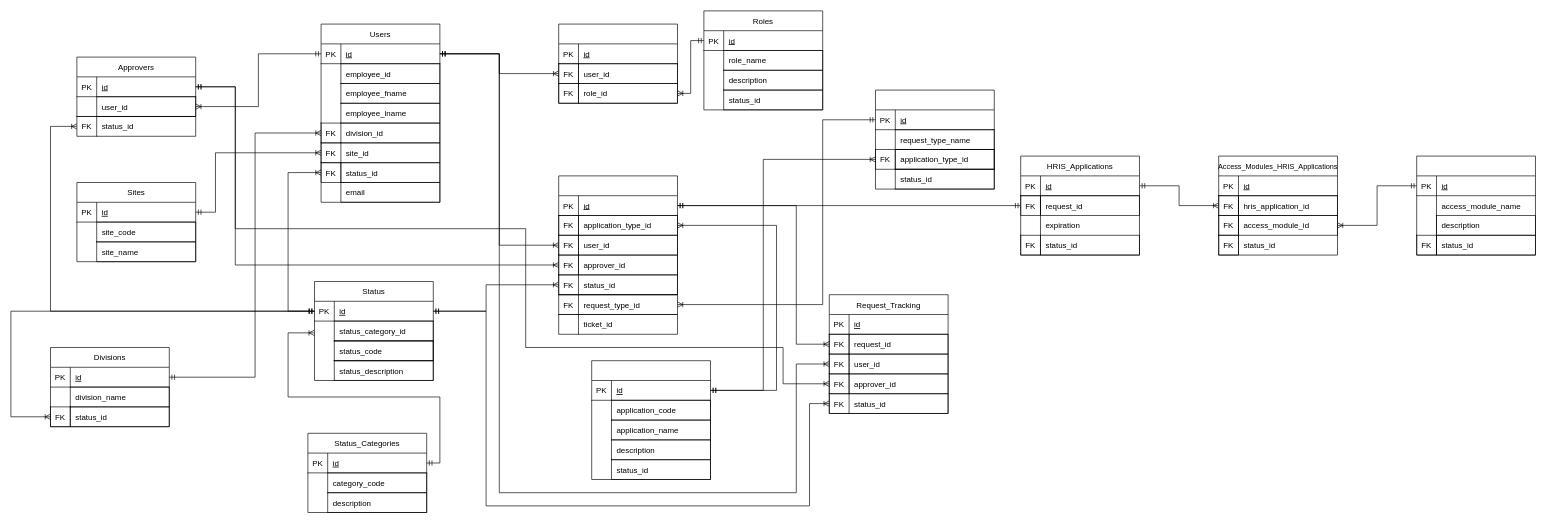
The diagram is 1546 pixels wide and 527 high, and some of its shapes have lost their labels. Each missing label, with the box of its shape:
Access_Modules: (1416, 155, 1535, 255)
Application_Type: (591, 360, 710, 479)
Request_Types: (875, 89, 994, 189)
Requests: (558, 175, 677, 295)
User_Roles: (558, 23, 677, 103)
